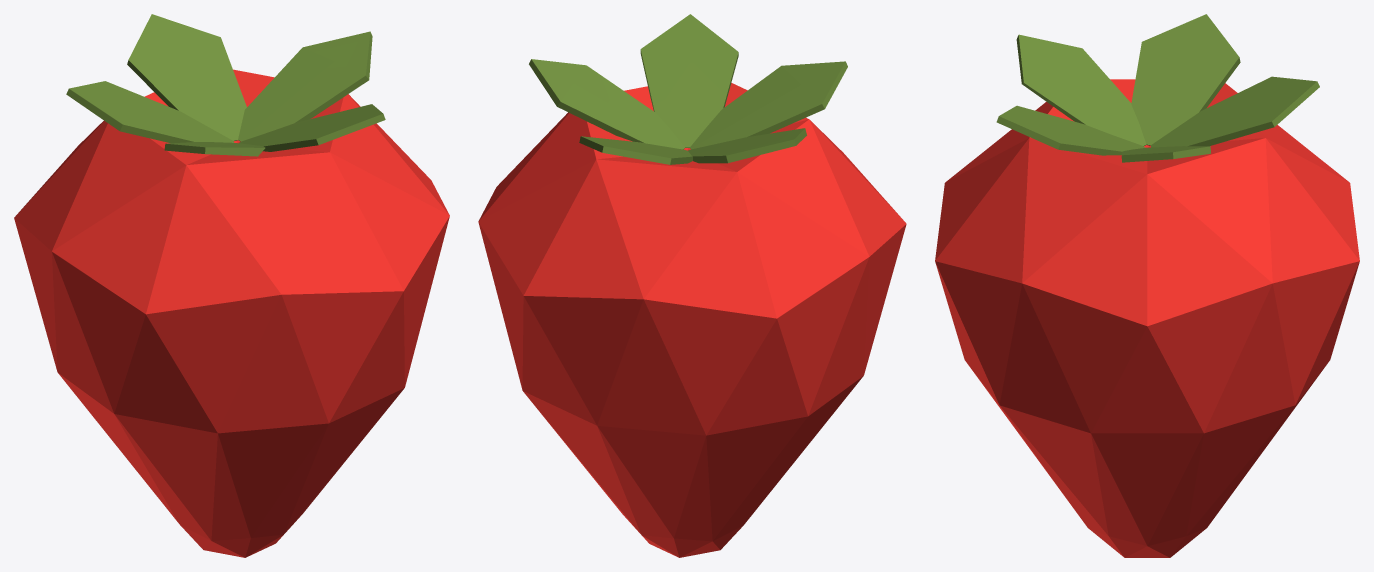
Rendered from Strawberry_01.fbx.
3 renders of one model, left to right at view 1: azimuth 30°, elevation 25°; view 2: azimuth 150°, elevation 25°; view 3: azimuth 270°, elevation 25°, orthographic.
Parts seen in each view (by area): view 1: Strawberry_01; view 2: Strawberry_01; view 3: Strawberry_01.
Boxes of the visible parts, x1=… form: Strawberry_01: x1=14, y1=14, x2=449, y2=557; Strawberry_01: x1=478, y1=14, x2=906, y2=557; Strawberry_01: x1=935, y1=14, x2=1359, y2=557.
Bounding box in the file's own units: 4.48 × 5.38 × 4.36.
